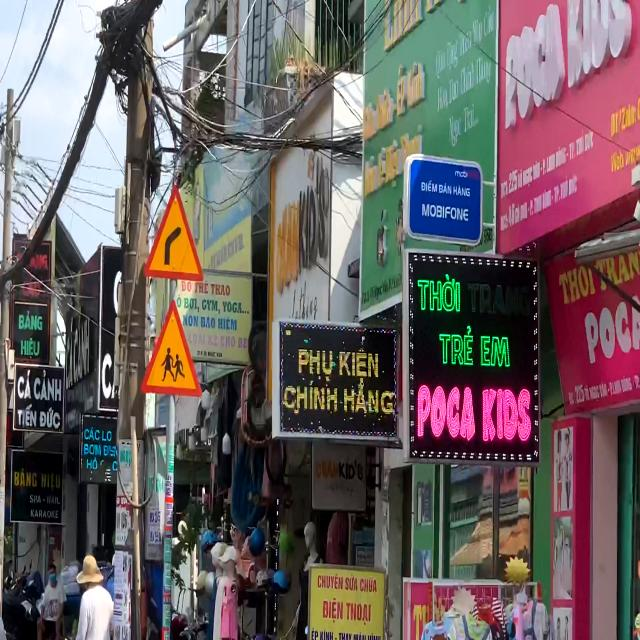W.201b: (142, 183, 205, 283)
W.225: (140, 297, 202, 398)
